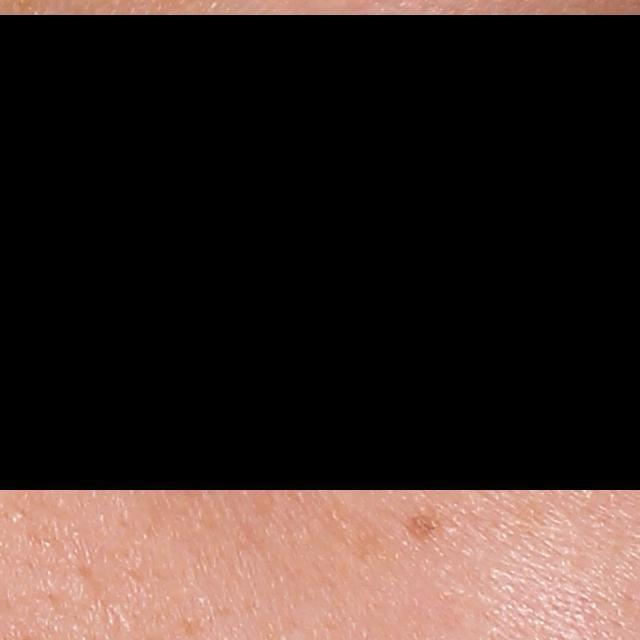melasma: (397, 503, 444, 546)
